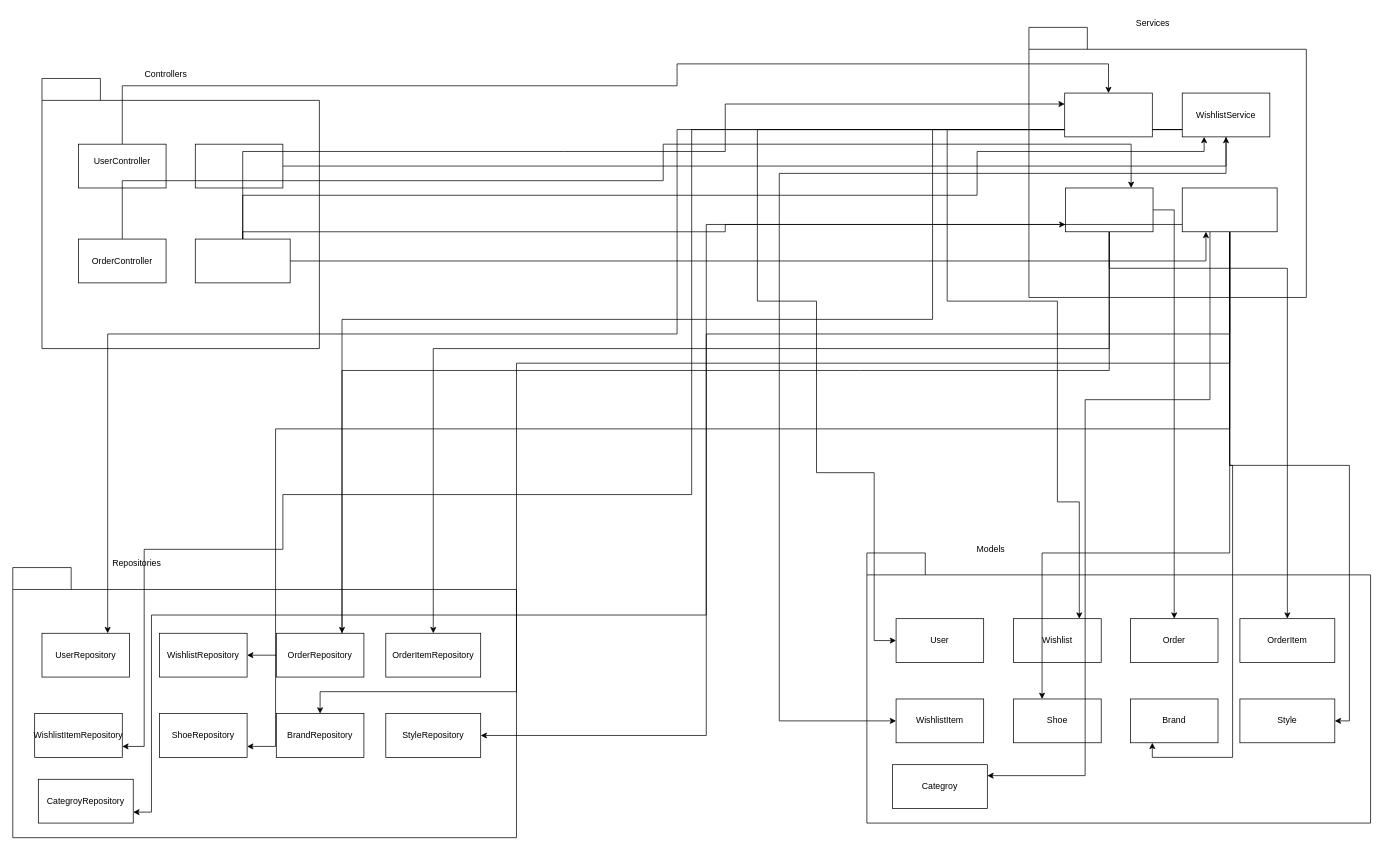
This 1383x850 diagram has some shape labels left out. The box of each missing label's shape, as (x1, y1, x2, y2) in pixels:
ControlPanelController: (195, 238, 290, 283)
OrderService: (1065, 187, 1153, 232)
ShoeService: (1182, 187, 1277, 232)
UserService: (1064, 92, 1152, 137)
WishlistController: (195, 143, 283, 188)
